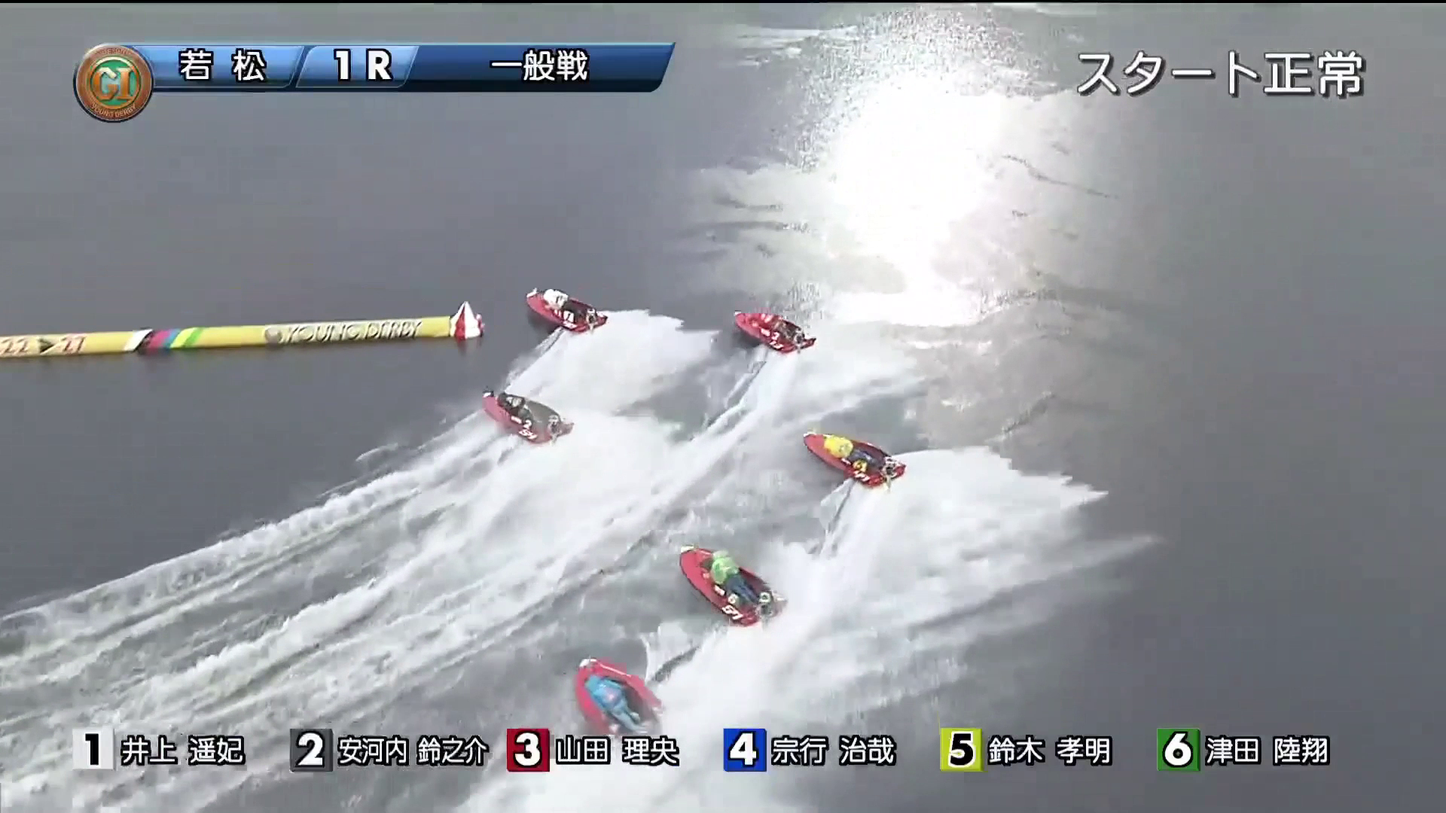１号艇: (514, 284, 584, 337)
２号艇: (456, 376, 584, 437)
３号艇: (723, 296, 821, 343)
４号艇: (689, 535, 823, 600)
５号艇: (562, 670, 686, 725)
６号艇: (801, 417, 900, 480)
